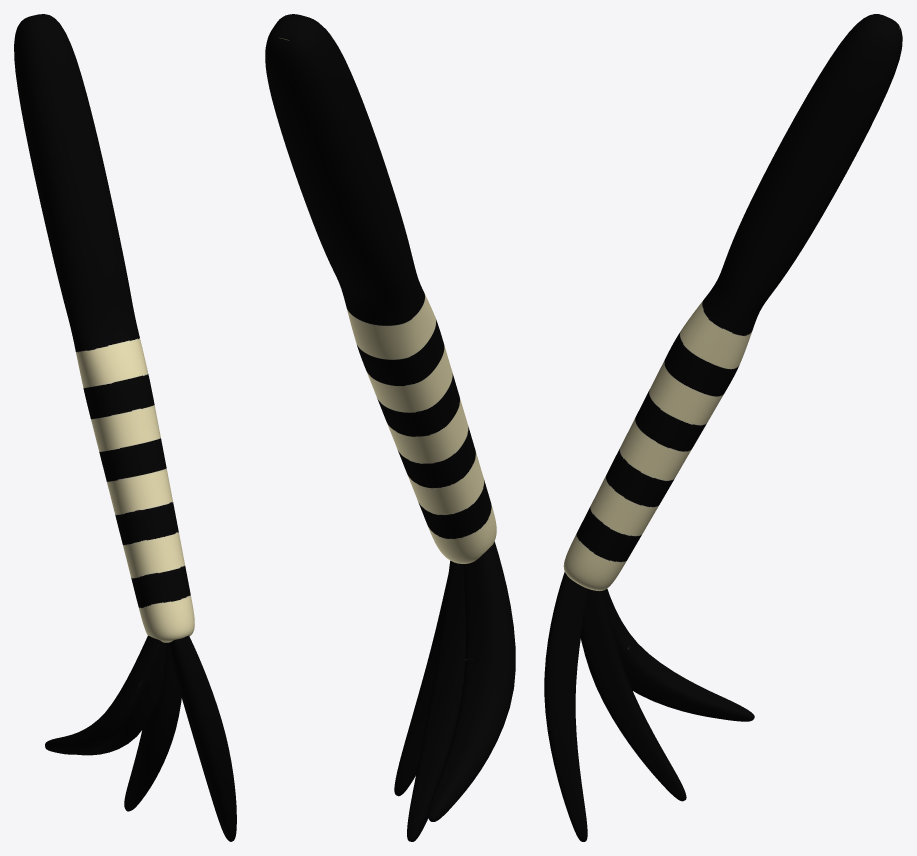
Rendered from mdlManoIzquierdaP.obj.
3 views of the same model, side by side, from view 1: azimuth 30°, elevation 25°; view 2: azimuth 150°, elevation 25°; view 3: azimuth 270°, elevation 25° (orthographic). The views are drawn at different scales.
Parts seen in each view (by area): view 1: ManoIzquierda; view 2: ManoIzquierda; view 3: ManoIzquierda.
Boxes of the visible parts, box(x1,y1,x2,y2) form: ManoIzquierda: box(14, 14, 236, 841); ManoIzquierda: box(265, 14, 515, 841); ManoIzquierda: box(544, 14, 902, 841).
Size of the model in its own units: 0.4025 by 2.44 by 0.9968.
Materials: 1 (1 with a texture image).
